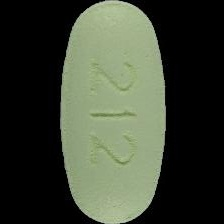43353-970: (0, 0, 224, 224)
